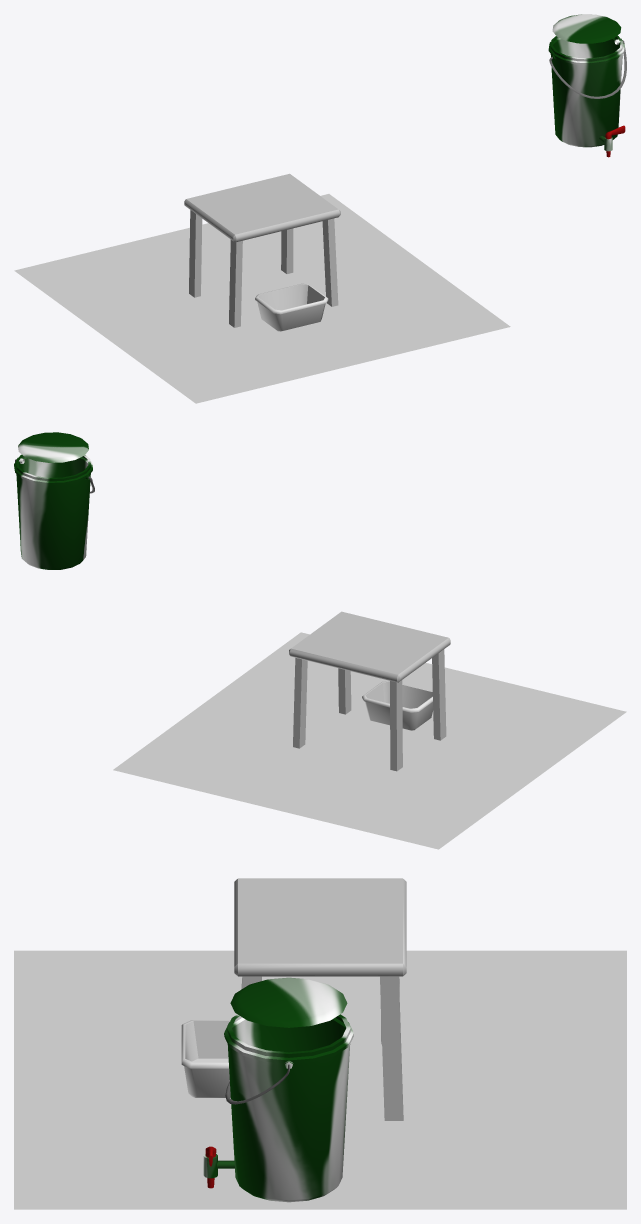
The model's file is HandwashStation.fbx.
3 renders of one model, top to bottom at view 1: azimuth 30°, elevation 25°; view 2: azimuth 150°, elevation 25°; view 3: azimuth 270°, elevation 25°, orthographic. The views are drawn at different scales.
Visible parts, largest first — view 1: Plane, Table, ChlorineBucket, Bowl; view 2: Plane, Table, ChlorineBucket, Bowl; view 3: Plane, ChlorineBucket, Table, Bowl.
Boxes of the visible parts, box(x1,y1,x2,y2) form: Plane: box(14, 194, 510, 403); Table: box(184, 173, 340, 327); ChlorineBucket: box(548, 14, 626, 157); Bowl: box(255, 283, 328, 331); Plane: box(113, 632, 626, 849); Table: box(289, 611, 450, 771); ChlorineBucket: box(14, 432, 94, 569); Bowl: box(362, 681, 433, 730); Plane: box(14, 950, 626, 1209); ChlorineBucket: box(203, 977, 353, 1202); Table: box(234, 878, 406, 1120); Bowl: box(181, 1020, 230, 1097).
Size of the model in its own units: 127 by 48.41 by 78.74.
